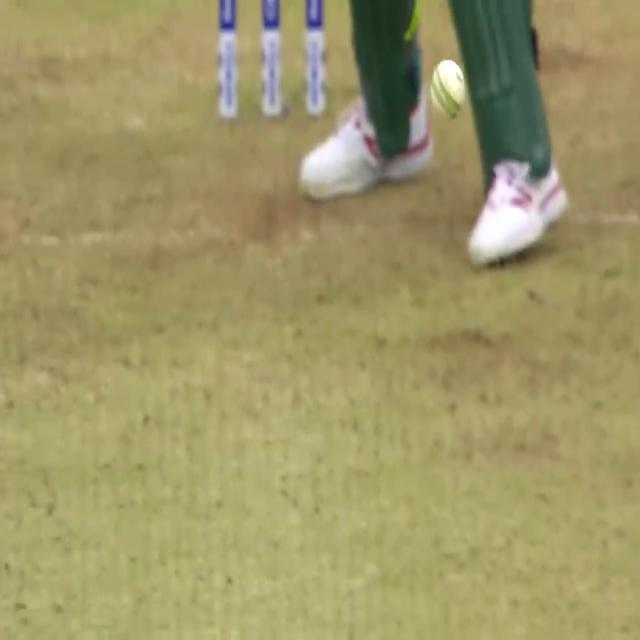ball: (421, 48, 477, 139)
